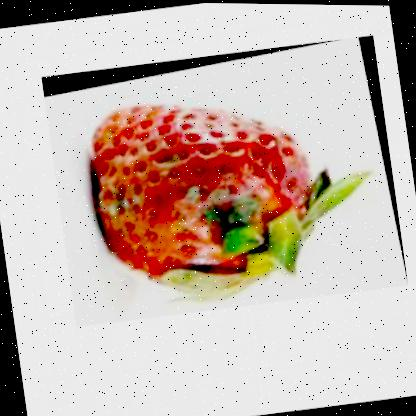strawberry_rotten: (40, 28, 408, 329)
